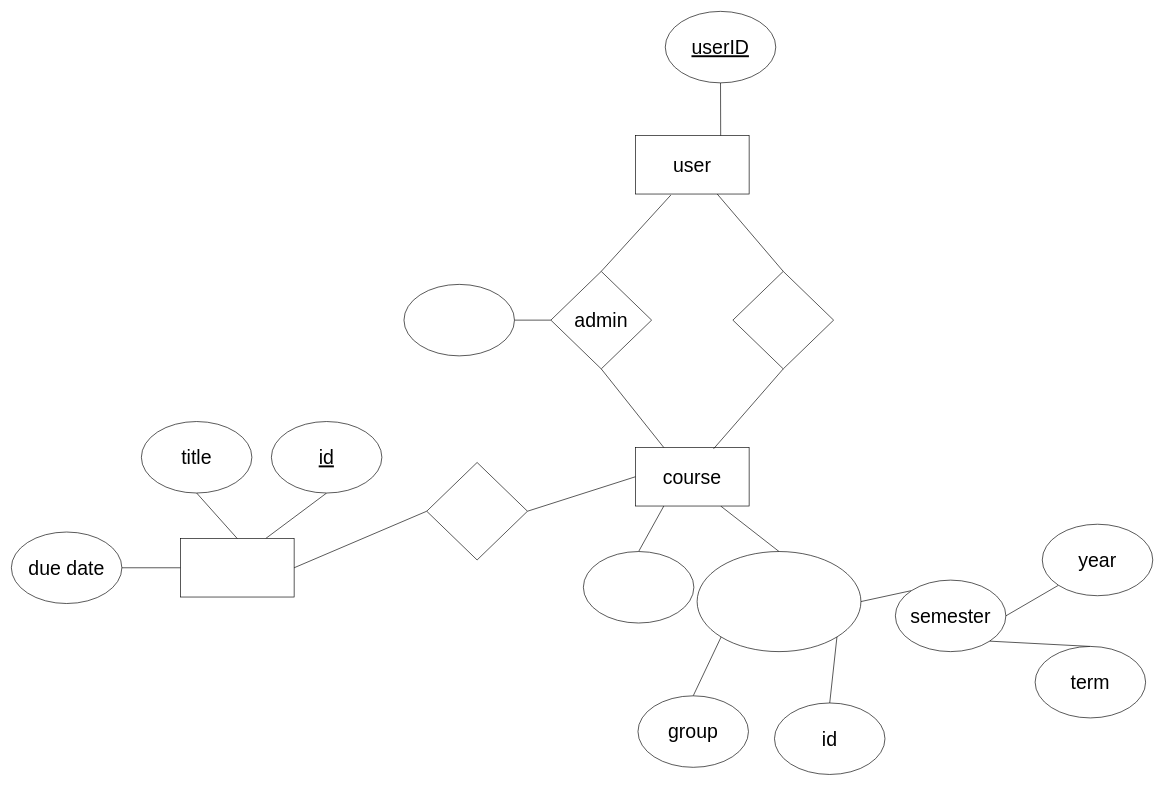
The diagram is 1164 pixels wide and 786 high, and some of its shapes have lost their labels. Here are the shapes that lost their labels. From the top down, the box of each, then its label:
(403, 284, 514, 356): role
(732, 271, 834, 369): enrolled
(426, 462, 527, 560): has
(180, 538, 294, 597): Deadline
(583, 551, 694, 623): name
(696, 551, 861, 652): id_date_group
